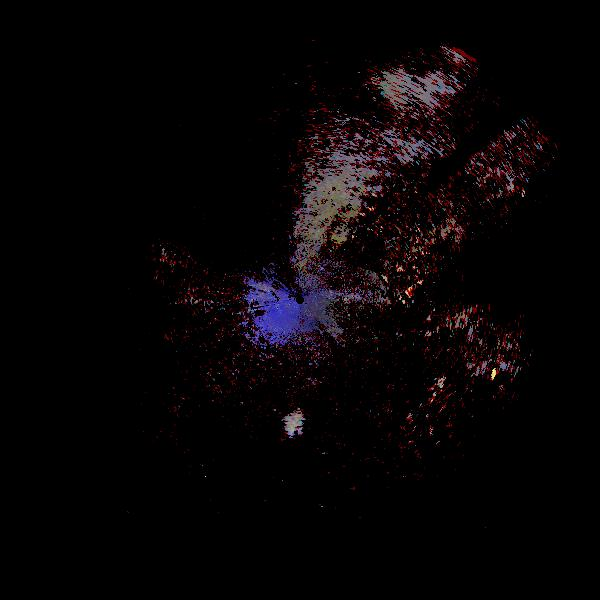roost: (288, 419, 303, 434)
